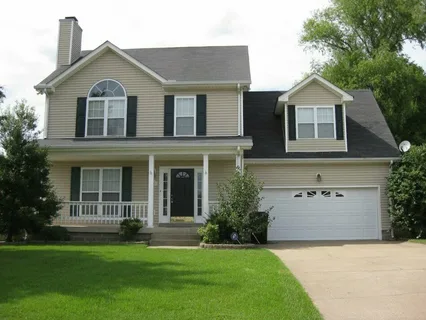private_hause: (31, 12, 403, 244)
